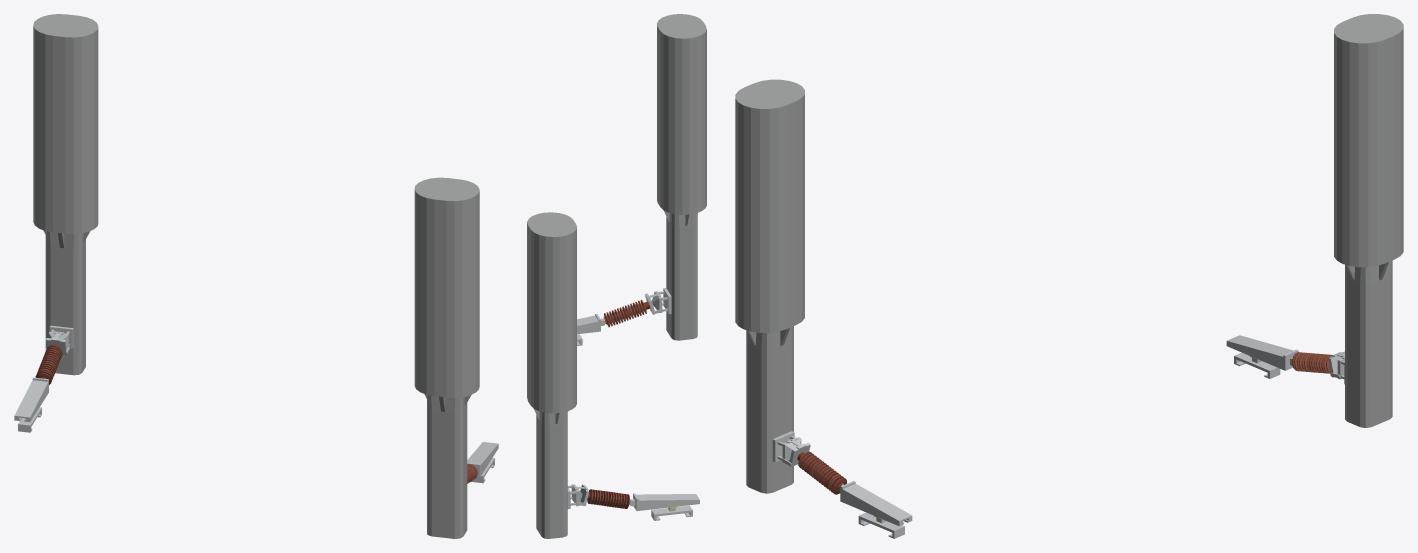
Rendered from catenary_rigid_45d_hs.obj.
The picture shows the model from 3 angles, left to right: view 1: azimuth 30°, elevation 25°; view 2: azimuth 150°, elevation 25°; view 3: azimuth 270°, elevation 25°; orthographic projection. The views are drawn at different scales.
Visible parts, largest first — view 1: 1.005, 1.008; view 2: 1.005, 1.008; view 3: 1.008, 1.005.
Boxes of the visible parts, x1=… form: 1.005: x1=14, y1=14, x2=98, y2=432; 1.008: x1=414, y1=177, x2=498, y2=538; 1.005: x1=527, y1=212, x2=699, y2=538; 1.008: x1=577, y1=14, x2=706, y2=345; 1.008: x1=735, y1=79, x2=912, y2=538; 1.005: x1=1226, y1=14, x2=1403, y2=427.
Bounding box in the file's own units: 1.85 × 1.8 × 2.8.
2 materials, 2 textured.
